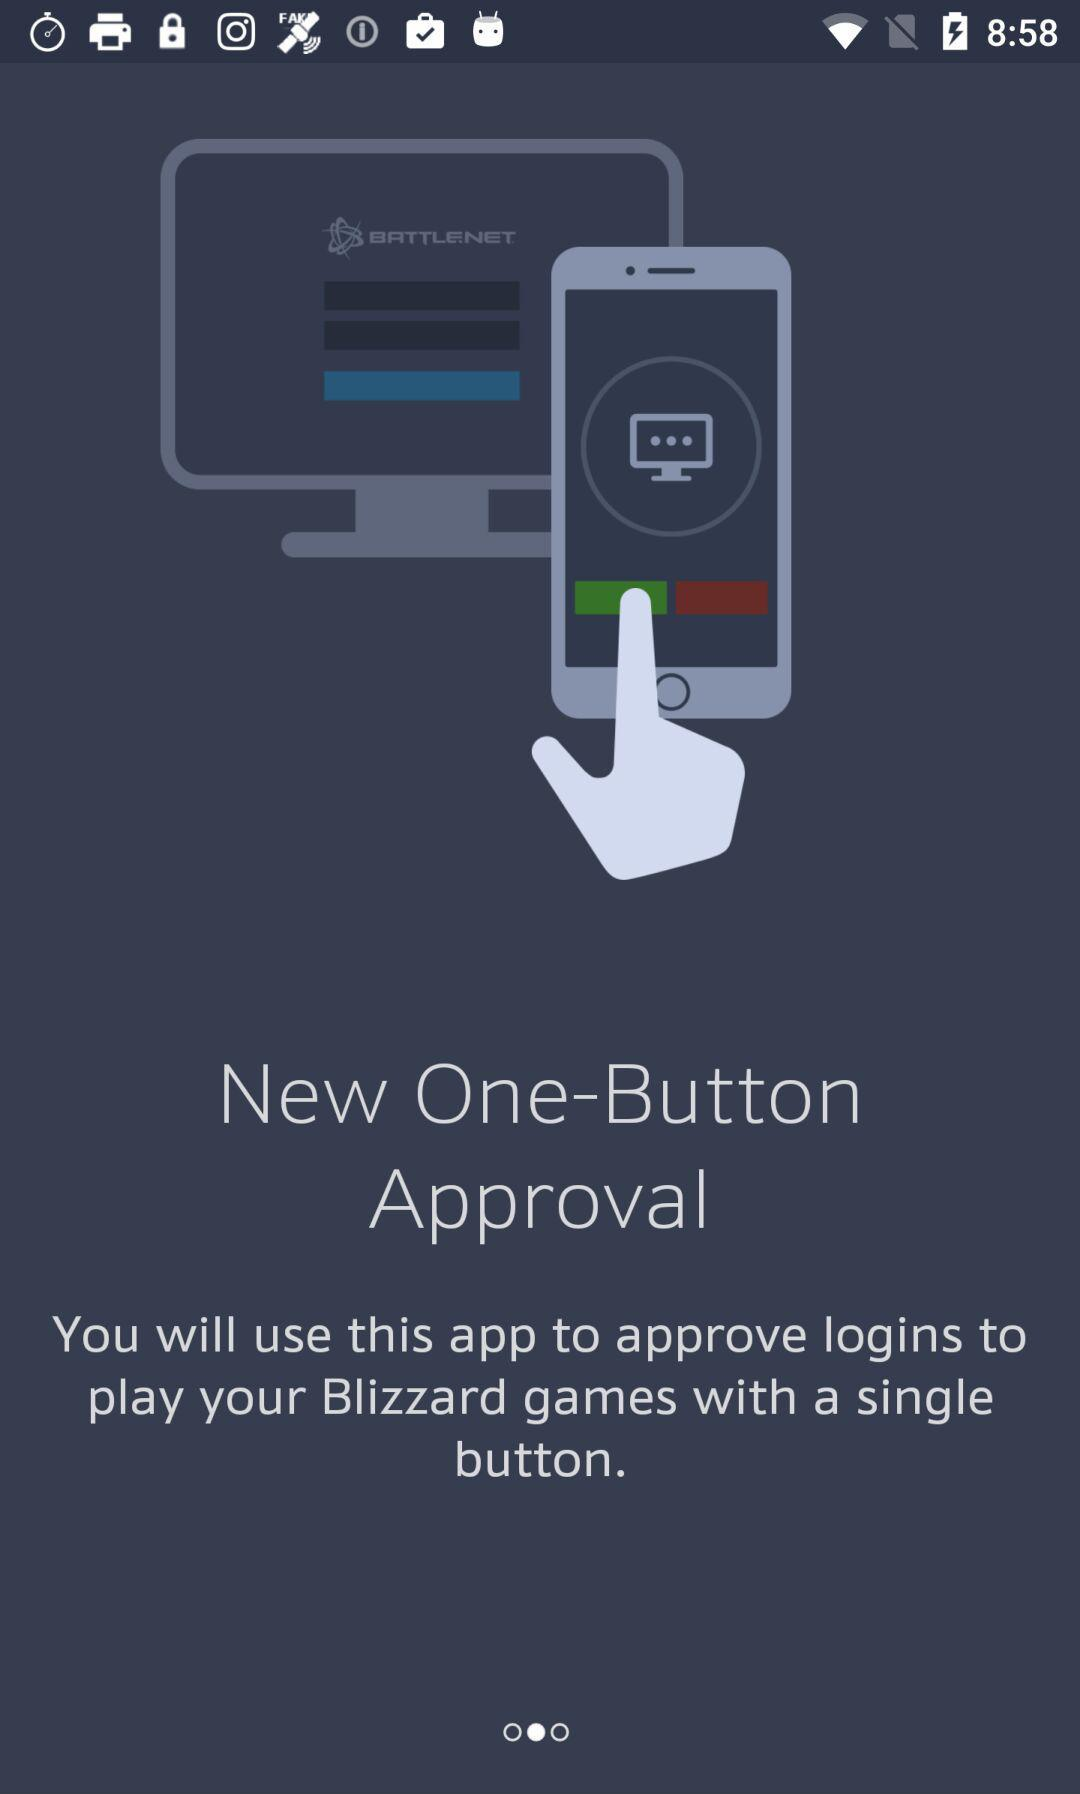Image: (160, 138, 793, 882)
PageIndicator: (502, 1722, 571, 1744)
Text: (51, 1315, 1027, 1479), (223, 1064, 858, 1247)
UpperTaskBar: (1, 1, 1080, 64)
